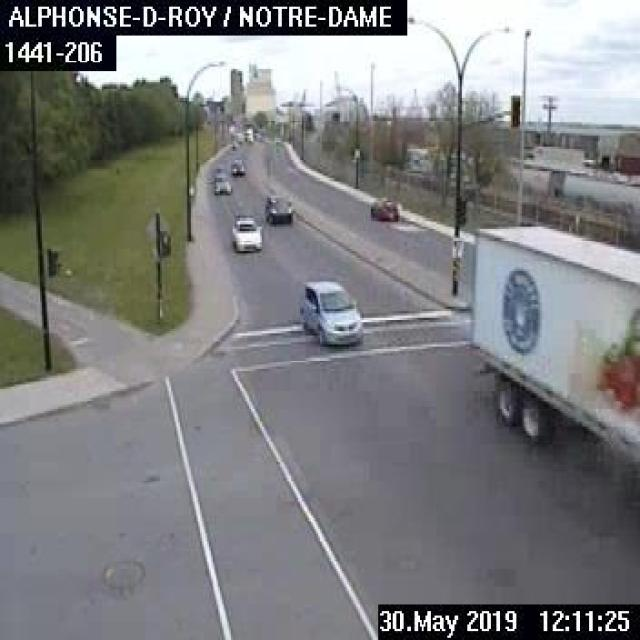vehicle: (466, 218, 638, 467), (298, 273, 364, 347), (230, 212, 262, 250), (263, 192, 293, 223), (368, 195, 397, 220), (211, 172, 230, 195), (230, 156, 244, 176)
